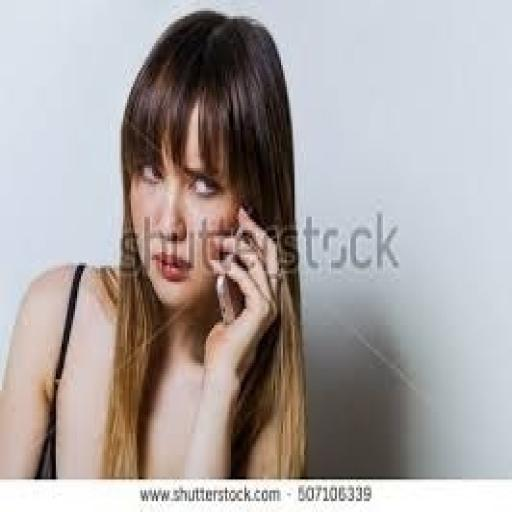calling: (0, 6, 308, 480)
